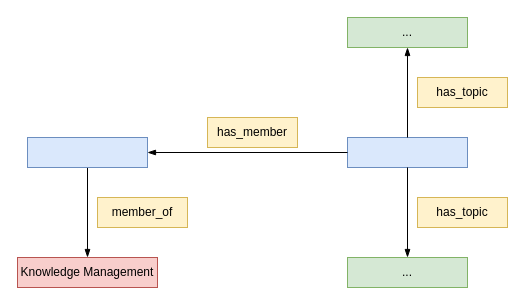
Image size: 525x305. Some labels were removed from this diagram. The centre of each missing label's shape, as x and y in pixels:
"Employee?" goes at [87,152].
"Project?" goes at [407,152].
